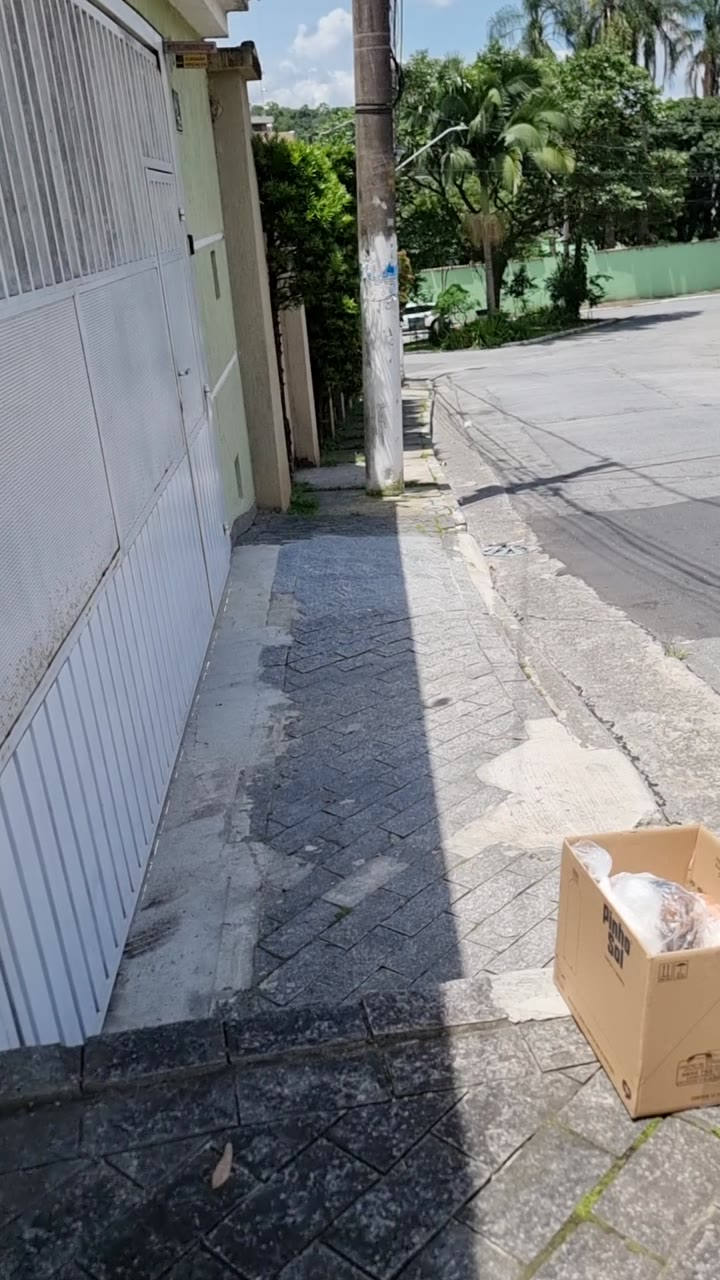obstaculo: (555, 825, 720, 1119), (360, 0, 403, 461)
